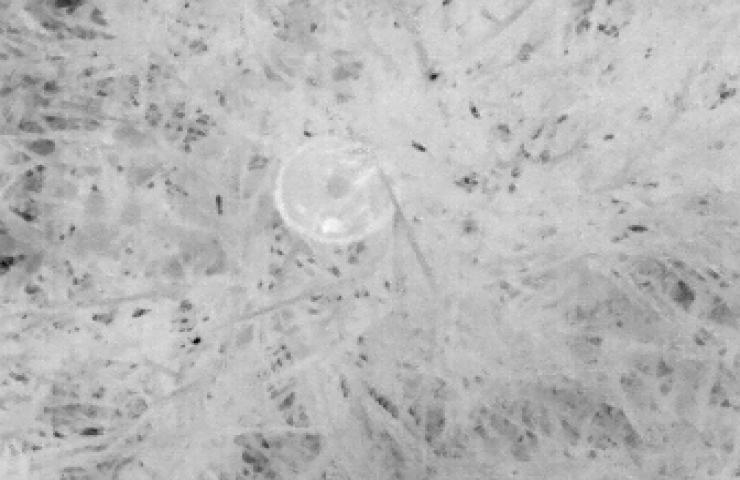landmines: (273, 130, 404, 249)
